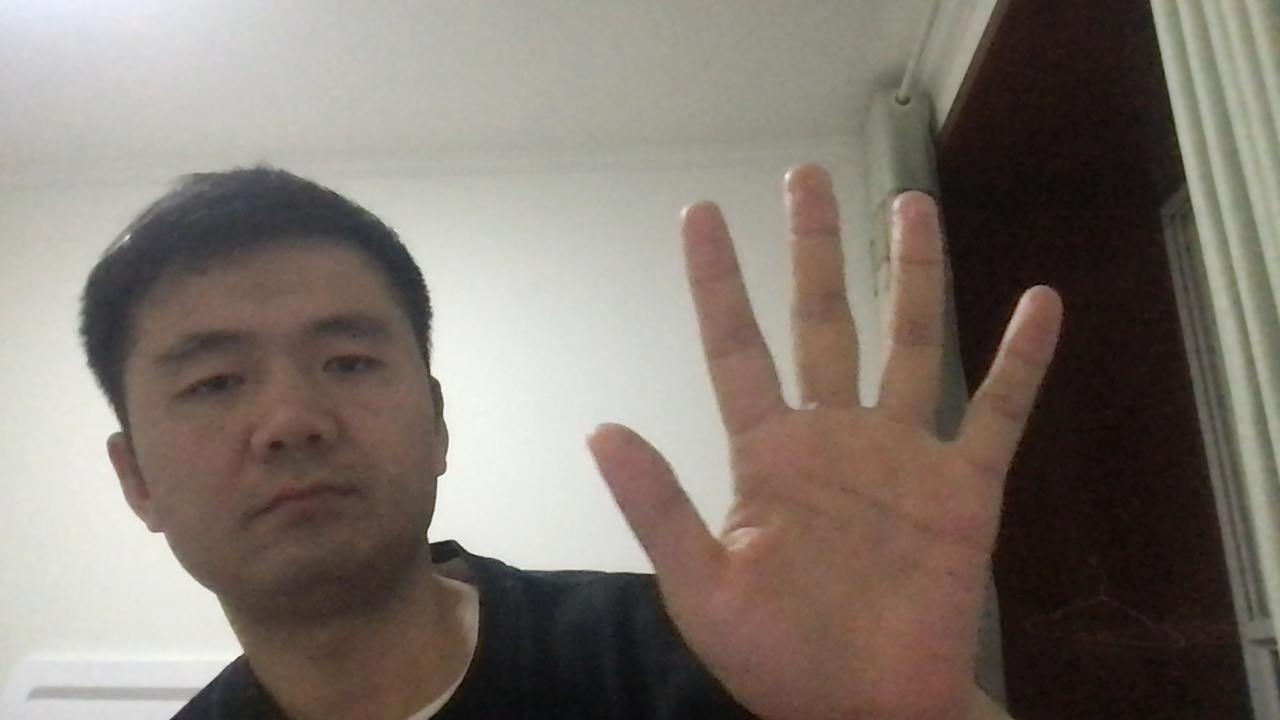hello: (569, 152, 1068, 712)
